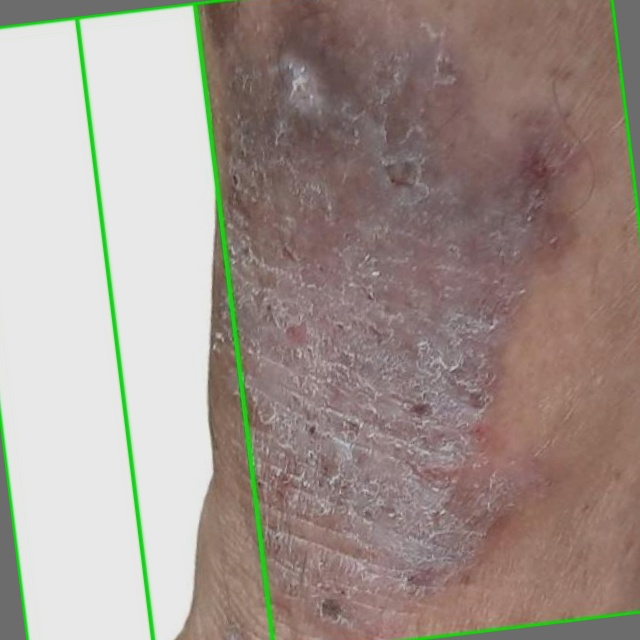Eczema: (77, 0, 639, 639), (0, 2, 272, 639)
